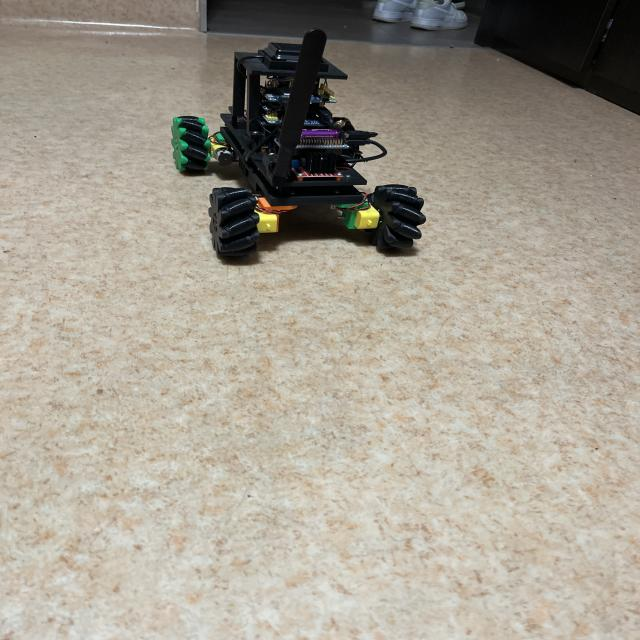robot: (172, 30, 426, 256)
